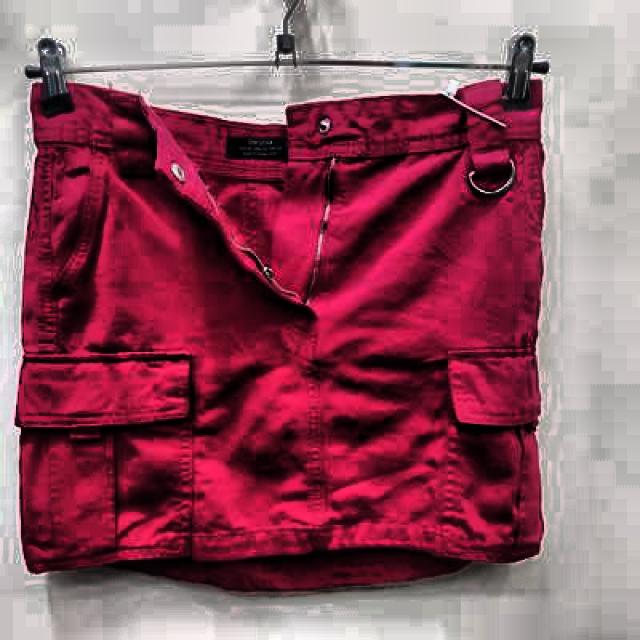clothes: (17, 69, 550, 593)
